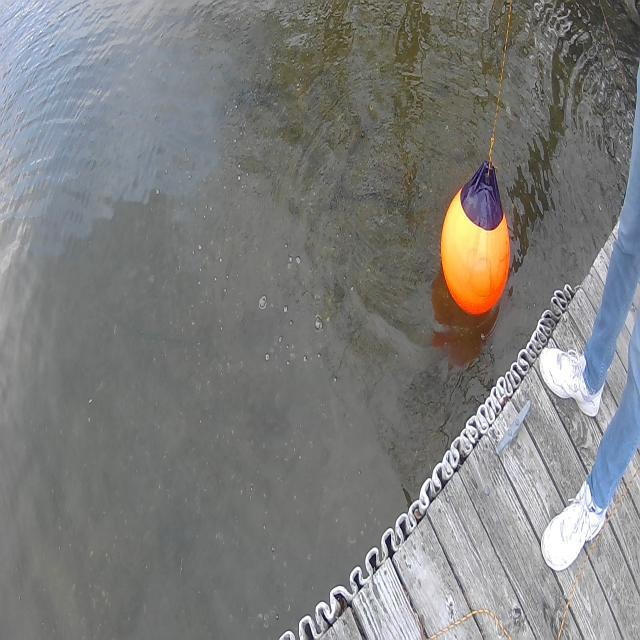Buoy: (430, 153, 522, 333)
